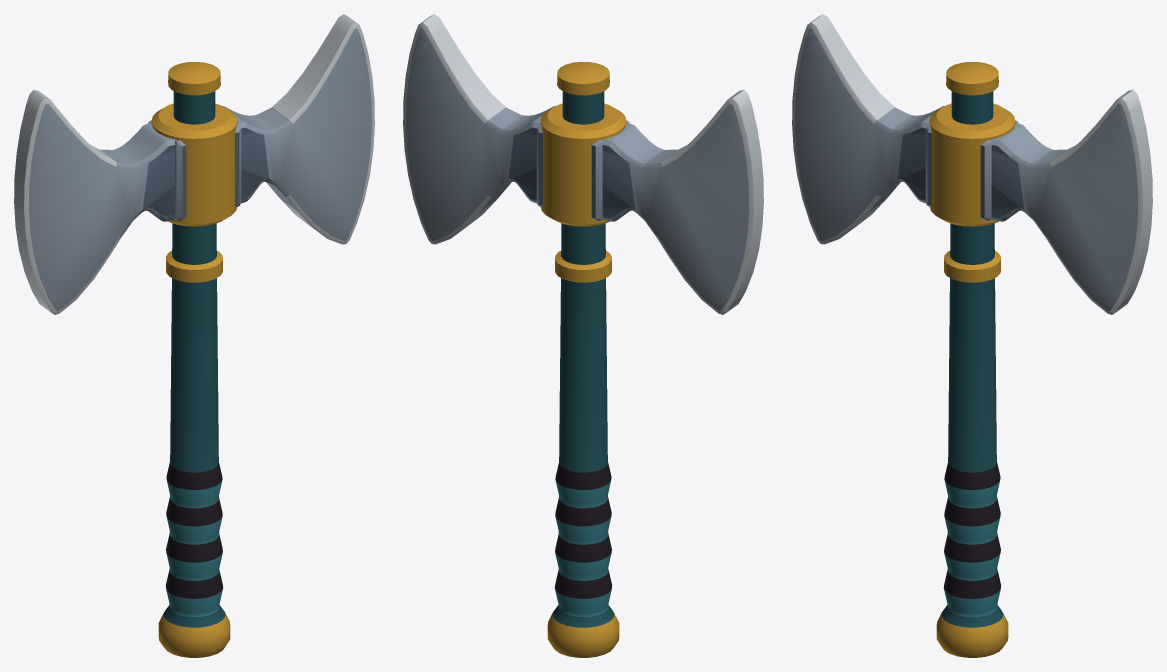
The model's file is Axe_13.glb.
The picture shows the model from 3 angles, left to right: view 1: azimuth 30°, elevation 25°; view 2: azimuth 150°, elevation 25°; view 3: azimuth 330°, elevation 25°; orthographic projection.
Visible parts, largest first — view 1: Axe_13; view 2: Axe_13; view 3: Axe_13.
Part boxes in pixels (x1,y1,x2,y2): Axe_13: (14, 14, 374, 657); Axe_13: (403, 14, 763, 657); Axe_13: (792, 14, 1152, 657).
Bounding box in the file's own units: 2.92 × 4.68 × 0.62.
